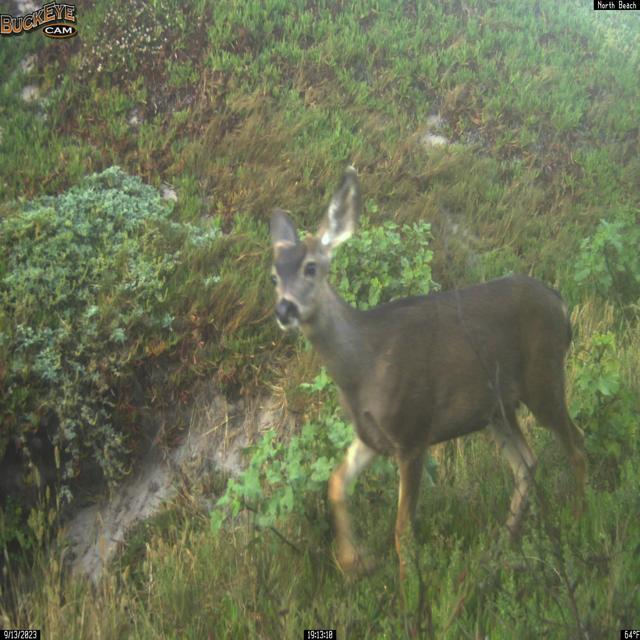deer: (268, 164, 591, 590)
